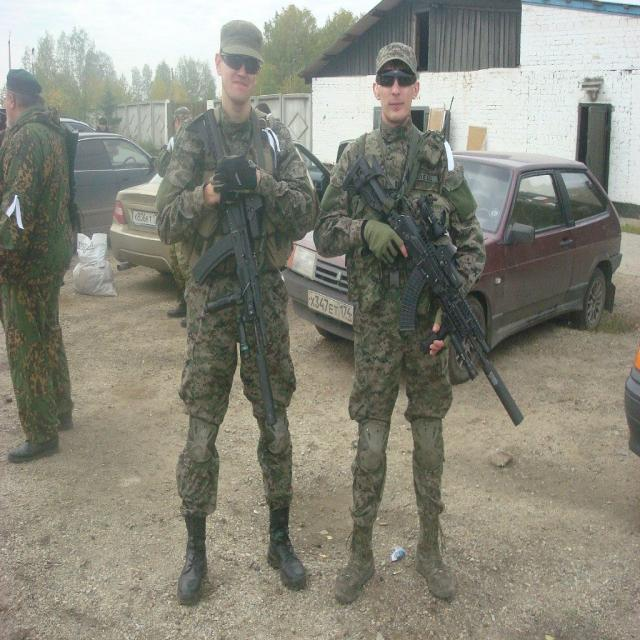firearm: (344, 154, 526, 430), (186, 107, 279, 427)
